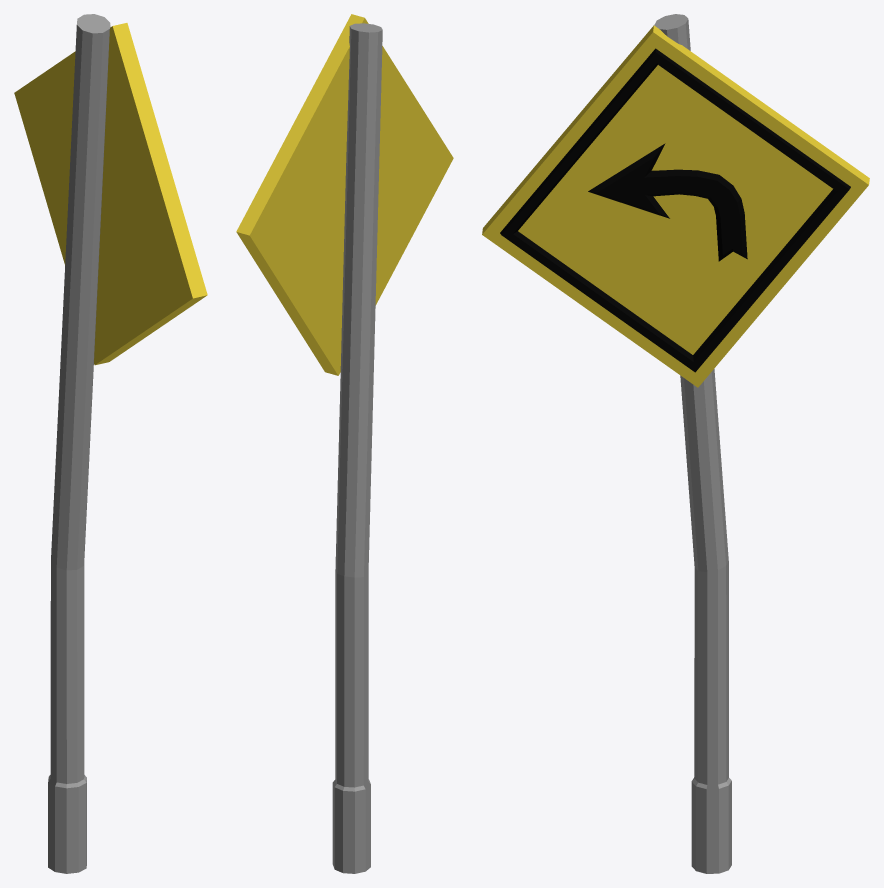
The model's file is turn Left.fbx.
3 renders of one model, left to right at view 1: azimuth 30°, elevation 25°; view 2: azimuth 150°, elevation 25°; view 3: azimuth 270°, elevation 25°, orthographic. The views are drawn at different scales.
Parts seen in each view (by area): view 1: Cylinder, Cube; view 2: Cube, Cylinder; view 3: Cube, Cylinder.
Boxes of the visible parts, x1,y1,x2,y2 form: Cylinder: (48, 14, 110, 873); Cube: (14, 23, 207, 365); Cube: (236, 14, 453, 375); Cylinder: (332, 23, 382, 873); Cube: (482, 25, 869, 387); Cylinder: (654, 14, 731, 873).
Bounding box in the file's own units: 385 × 5088 × 2105.
